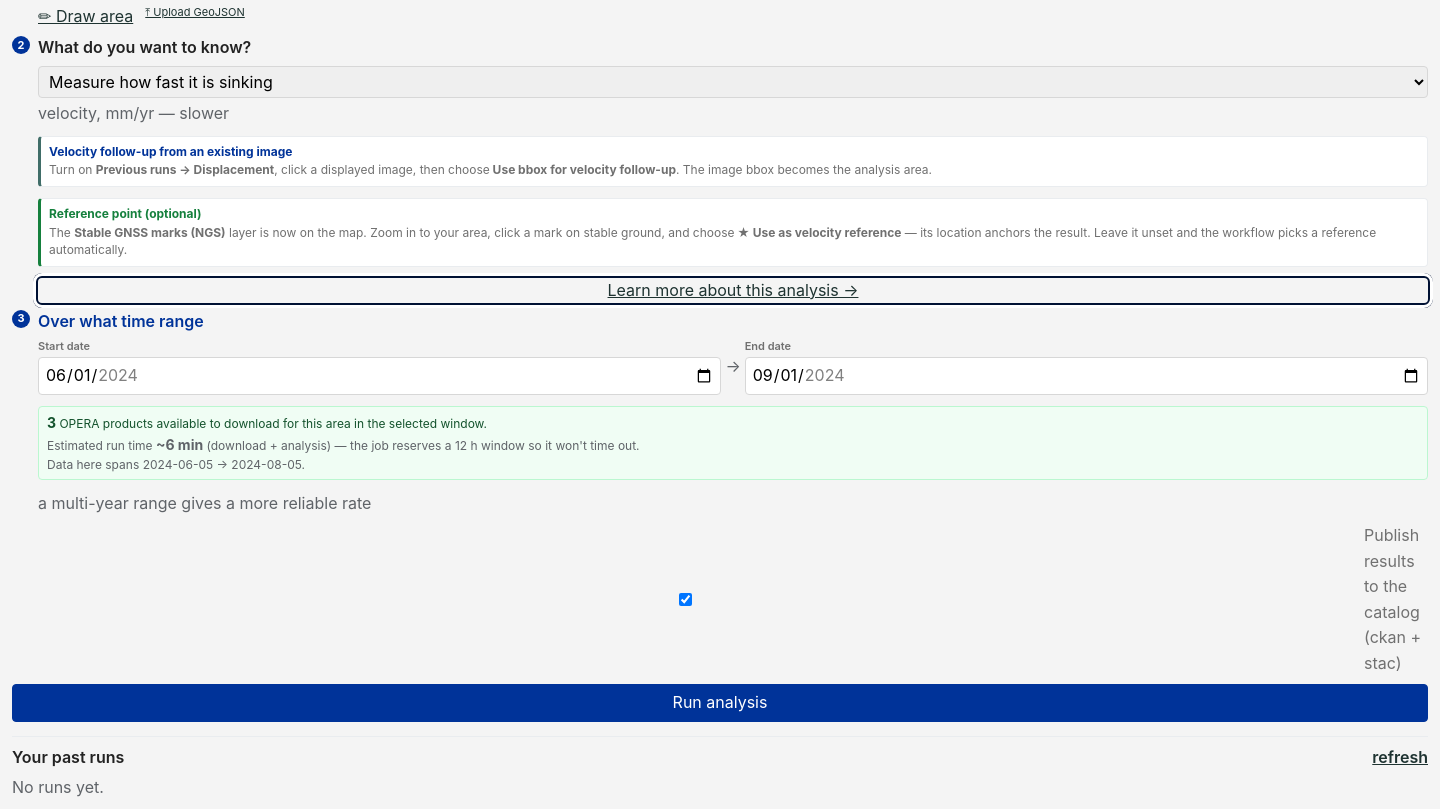
Scenario: dynamo mode › shows the owner-secret message for SECRET_REQUIRED
(page scrolled)
What coordinates should you click on to do the following:
click the button "Run analysis"
I would click on:
 (720, 703)
Its box is [12,684,1428,722].
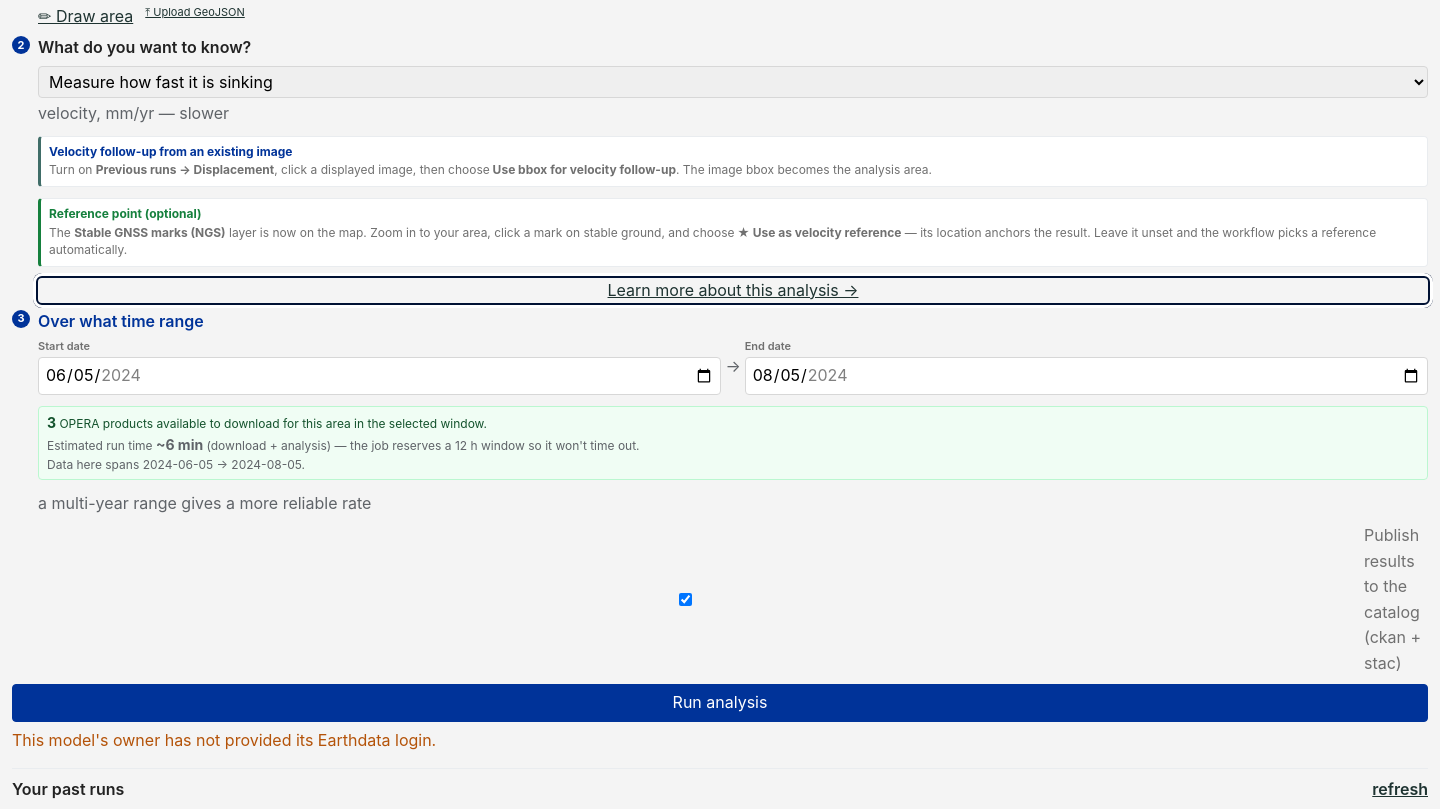
Expected: the message reads "This model's owner has not provided its Earthdata login.", [12,730,436,750]
